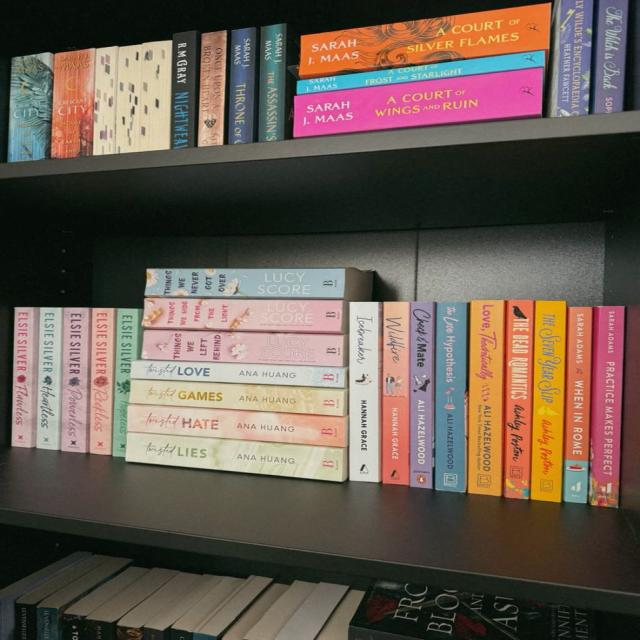book: (299, 3, 551, 75), (293, 67, 542, 137), (297, 50, 545, 94), (126, 434, 342, 482), (127, 406, 346, 447), (129, 380, 344, 417), (141, 331, 343, 367), (468, 300, 504, 496), (532, 301, 566, 501), (592, 306, 625, 507), (143, 299, 341, 332), (435, 302, 467, 493), (130, 361, 344, 388), (144, 269, 344, 297), (505, 300, 533, 499), (349, 302, 379, 482), (564, 307, 591, 503), (51, 48, 94, 159), (383, 302, 409, 484), (7, 52, 49, 163), (411, 302, 434, 488), (556, 0, 593, 115), (61, 307, 89, 453), (594, 0, 628, 113), (89, 308, 114, 454), (113, 309, 137, 457), (36, 308, 61, 450), (198, 30, 227, 147), (11, 307, 35, 448), (258, 23, 286, 142), (229, 28, 255, 144), (171, 31, 196, 148)
